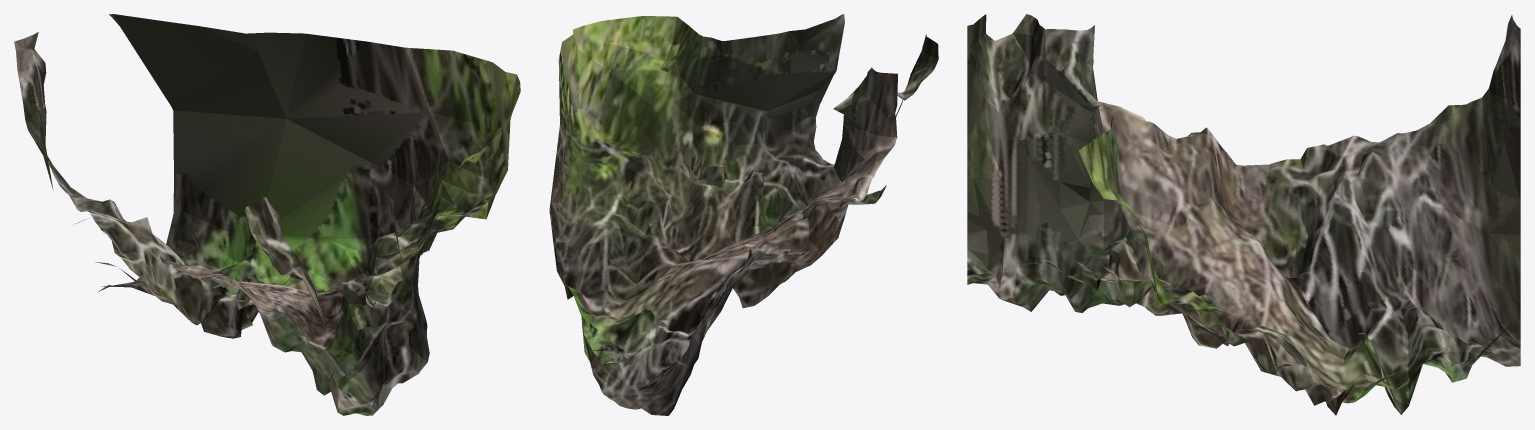
The picture shows the model from 3 angles, left to right: view 1: azimuth 30°, elevation 25°; view 2: azimuth 150°, elevation 25°; view 3: azimuth 270°, elevation 25°; orthographic projection. The views are drawn at different scales.
Bounding box in the file's own units: 2.22 × 1.81 × 2.95.
3 materials, 3 textured.
